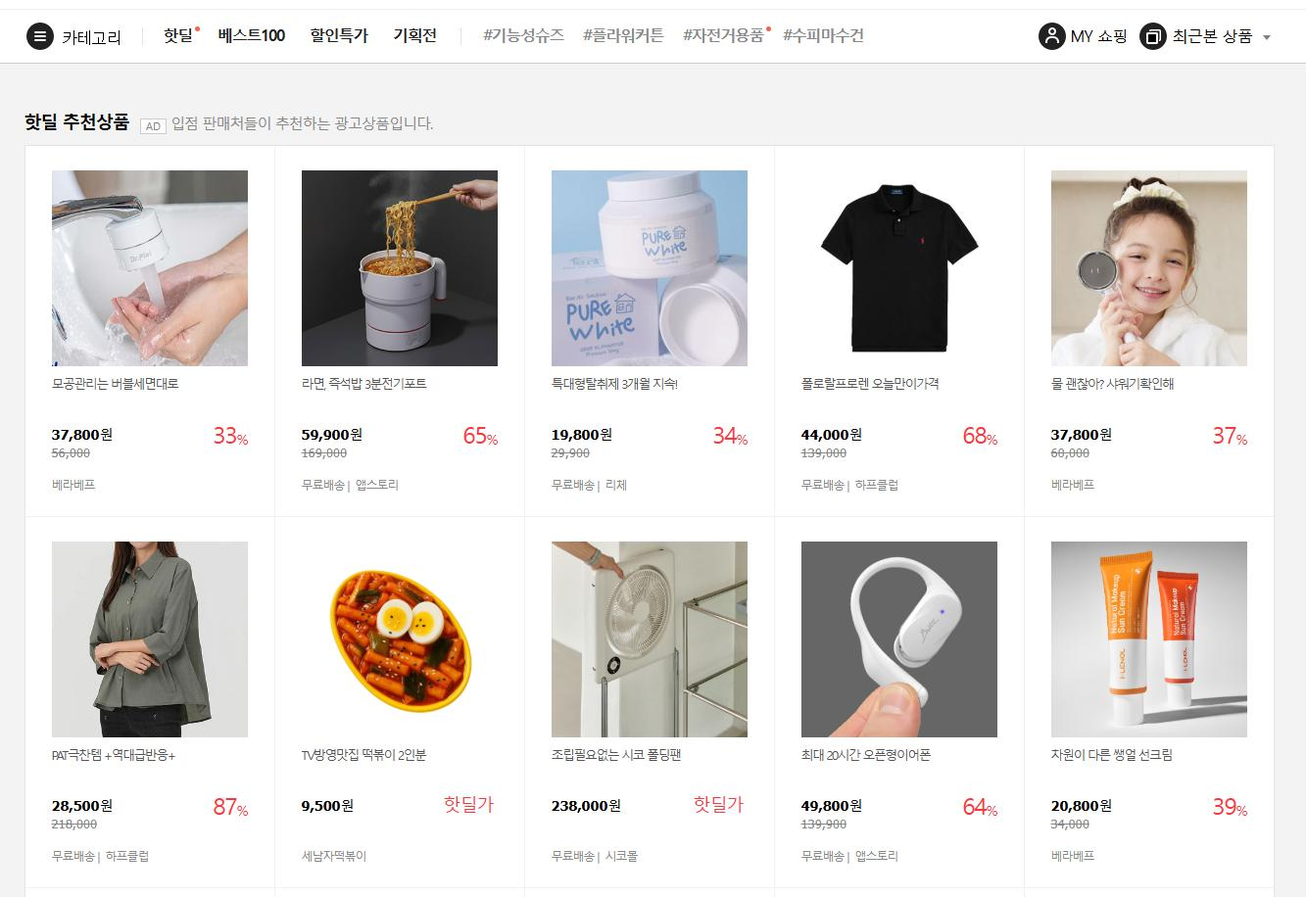button: (676, 16, 779, 56), (1036, 16, 1135, 56), (778, 17, 878, 56), (477, 14, 573, 54), (578, 16, 671, 54), (28, 16, 127, 51), (298, 11, 373, 54), (216, 17, 288, 56), (388, 16, 439, 53), (148, 17, 202, 50)
checkbox: (1141, 16, 1280, 56)
popup: (15, 88, 1283, 897)
